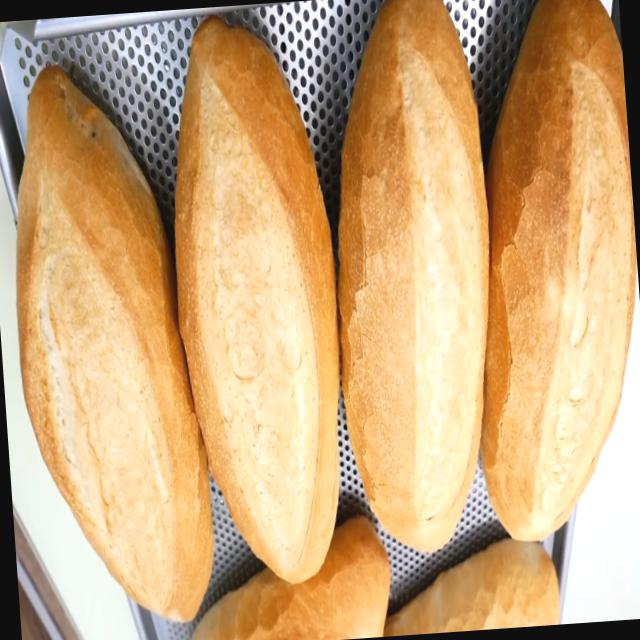banh mi: (15, 13, 342, 621), (336, 0, 637, 553), (186, 511, 560, 640)
